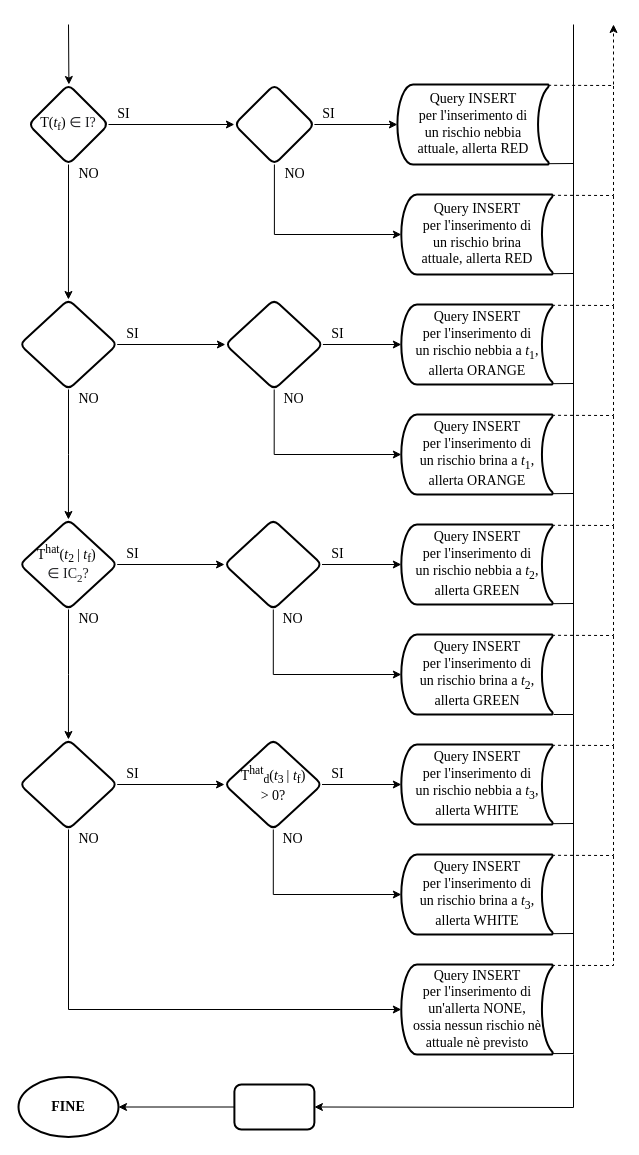
Some shapes in this 639 by 1155 pixel diagram are drawn without their labels. Here are the shapes that lost their labels. From the top down, the centre of each, then its label:
(x=274, y=124): T d ( t f ) > 0?
(x=68, y=344): T hat ( t 1 | t f ) ∈ IC 1 ?
(x=273, y=344): T hat d ( t 1 | t f ) > 0?
(x=272, y=564): T hat d ( t 2 | t f ) > 0?
(x=68, y=784): T hat ( t 3 | t f ) ∈ IC 3 ?
(x=274, y=1106): t f,OLD = t f
